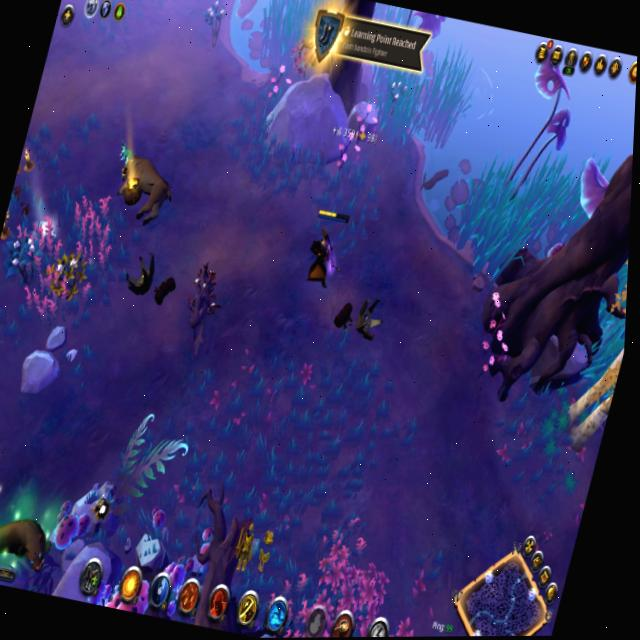hide: (0, 214, 51, 294), (47, 244, 91, 303), (197, 0, 229, 40)
mob: (102, 138, 186, 233)
ore: (167, 252, 234, 361), (0, 491, 66, 594)
red: (294, 201, 355, 295)
wisp caged: (556, 226, 630, 456)
